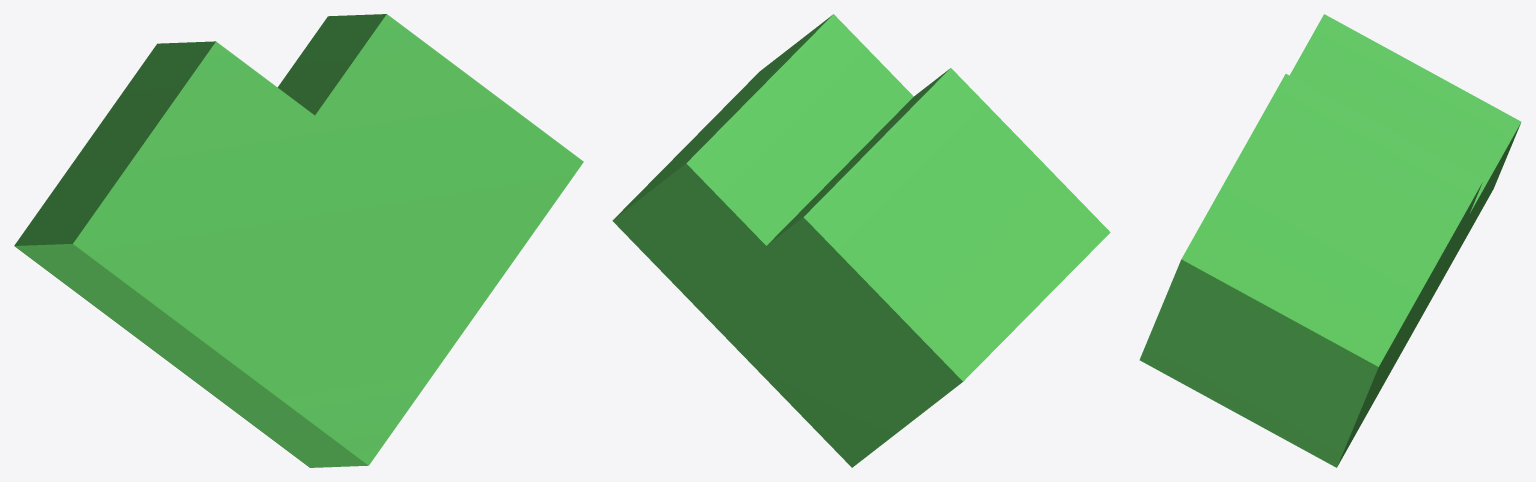
The model's file is health.fbx.
3 renders of one model, left to right at view 1: azimuth 30°, elevation 25°; view 2: azimuth 150°, elevation 25°; view 3: azimuth 270°, elevation 25°, orthographic. The views are drawn at different scales.
Visible parts, largest first — view 1: pCube7; view 2: pCube7; view 3: pCube7.
Part boxes in pixels (x1,y1,x2,y2): pCube7: [14, 14, 583, 467]; pCube7: [612, 14, 1110, 467]; pCube7: [1139, 14, 1521, 467].
Size of the model in its own units: 2.29 by 2.04 by 1.7.
Materials: 1 (1 with a texture image).
